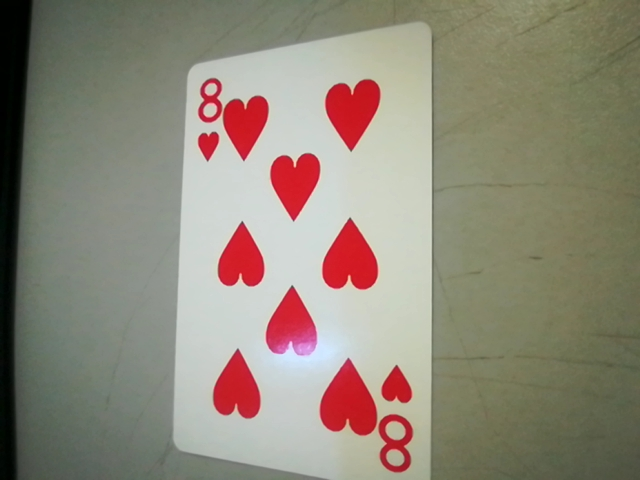hx 8: (183, 72, 227, 165)
